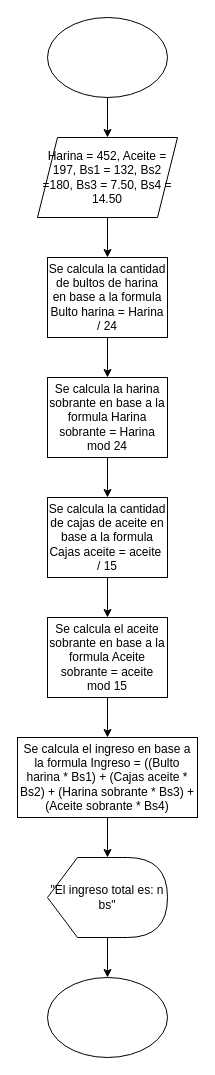
This 215x1075 diagram has some shape labels left out. The shapes that lost their labels are listed below. From the top down, each one's box as (x1, y1, x2, y2) in pixels, then its label:
(46, 16, 168, 98): Inicio
(46, 976, 168, 1058): Fin
